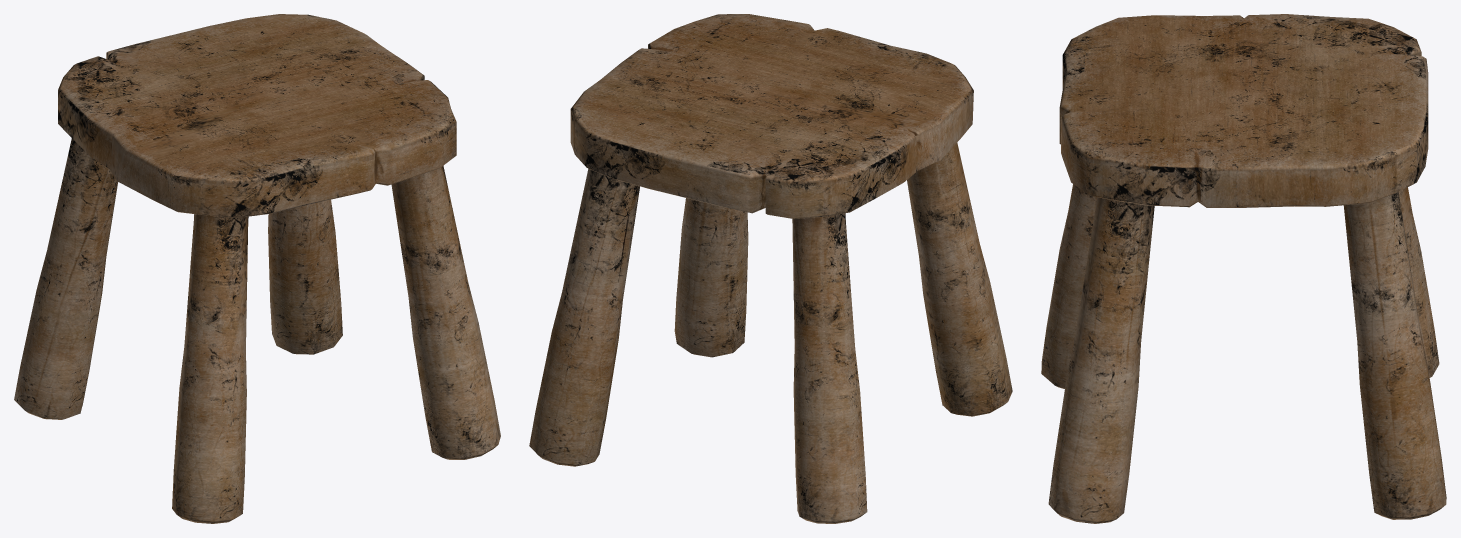
The model's file is obj_stool_low_322403.glb.
3 renders of one model, left to right at view 1: azimuth 30°, elevation 25°; view 2: azimuth 150°, elevation 25°; view 3: azimuth 270°, elevation 25°, orthographic. The views are drawn at different scales.
Parts seen in each view (by area): view 1: obj_stool_low_322403; view 2: obj_stool_low_322403; view 3: obj_stool_low_322403.
Part boxes in pixels (bbox=[...]): obj_stool_low_322403: bbox=[14, 14, 500, 523]; obj_stool_low_322403: bbox=[529, 14, 1012, 523]; obj_stool_low_322403: bbox=[1041, 14, 1446, 523].
Size of the model in its own units: 0.6619 by 0.65 by 0.6619.
Materials: 1 (1 with a texture image).
